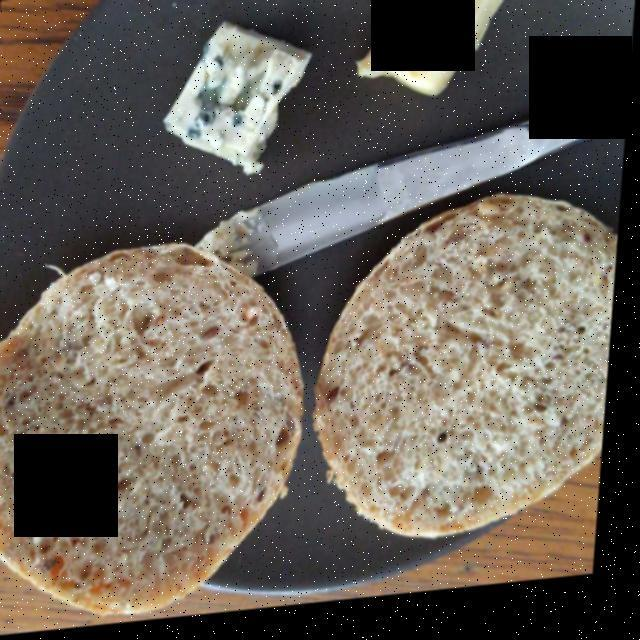bread: (0, 209, 599, 615)
cheese: (149, 17, 309, 179), (354, 0, 525, 106)
